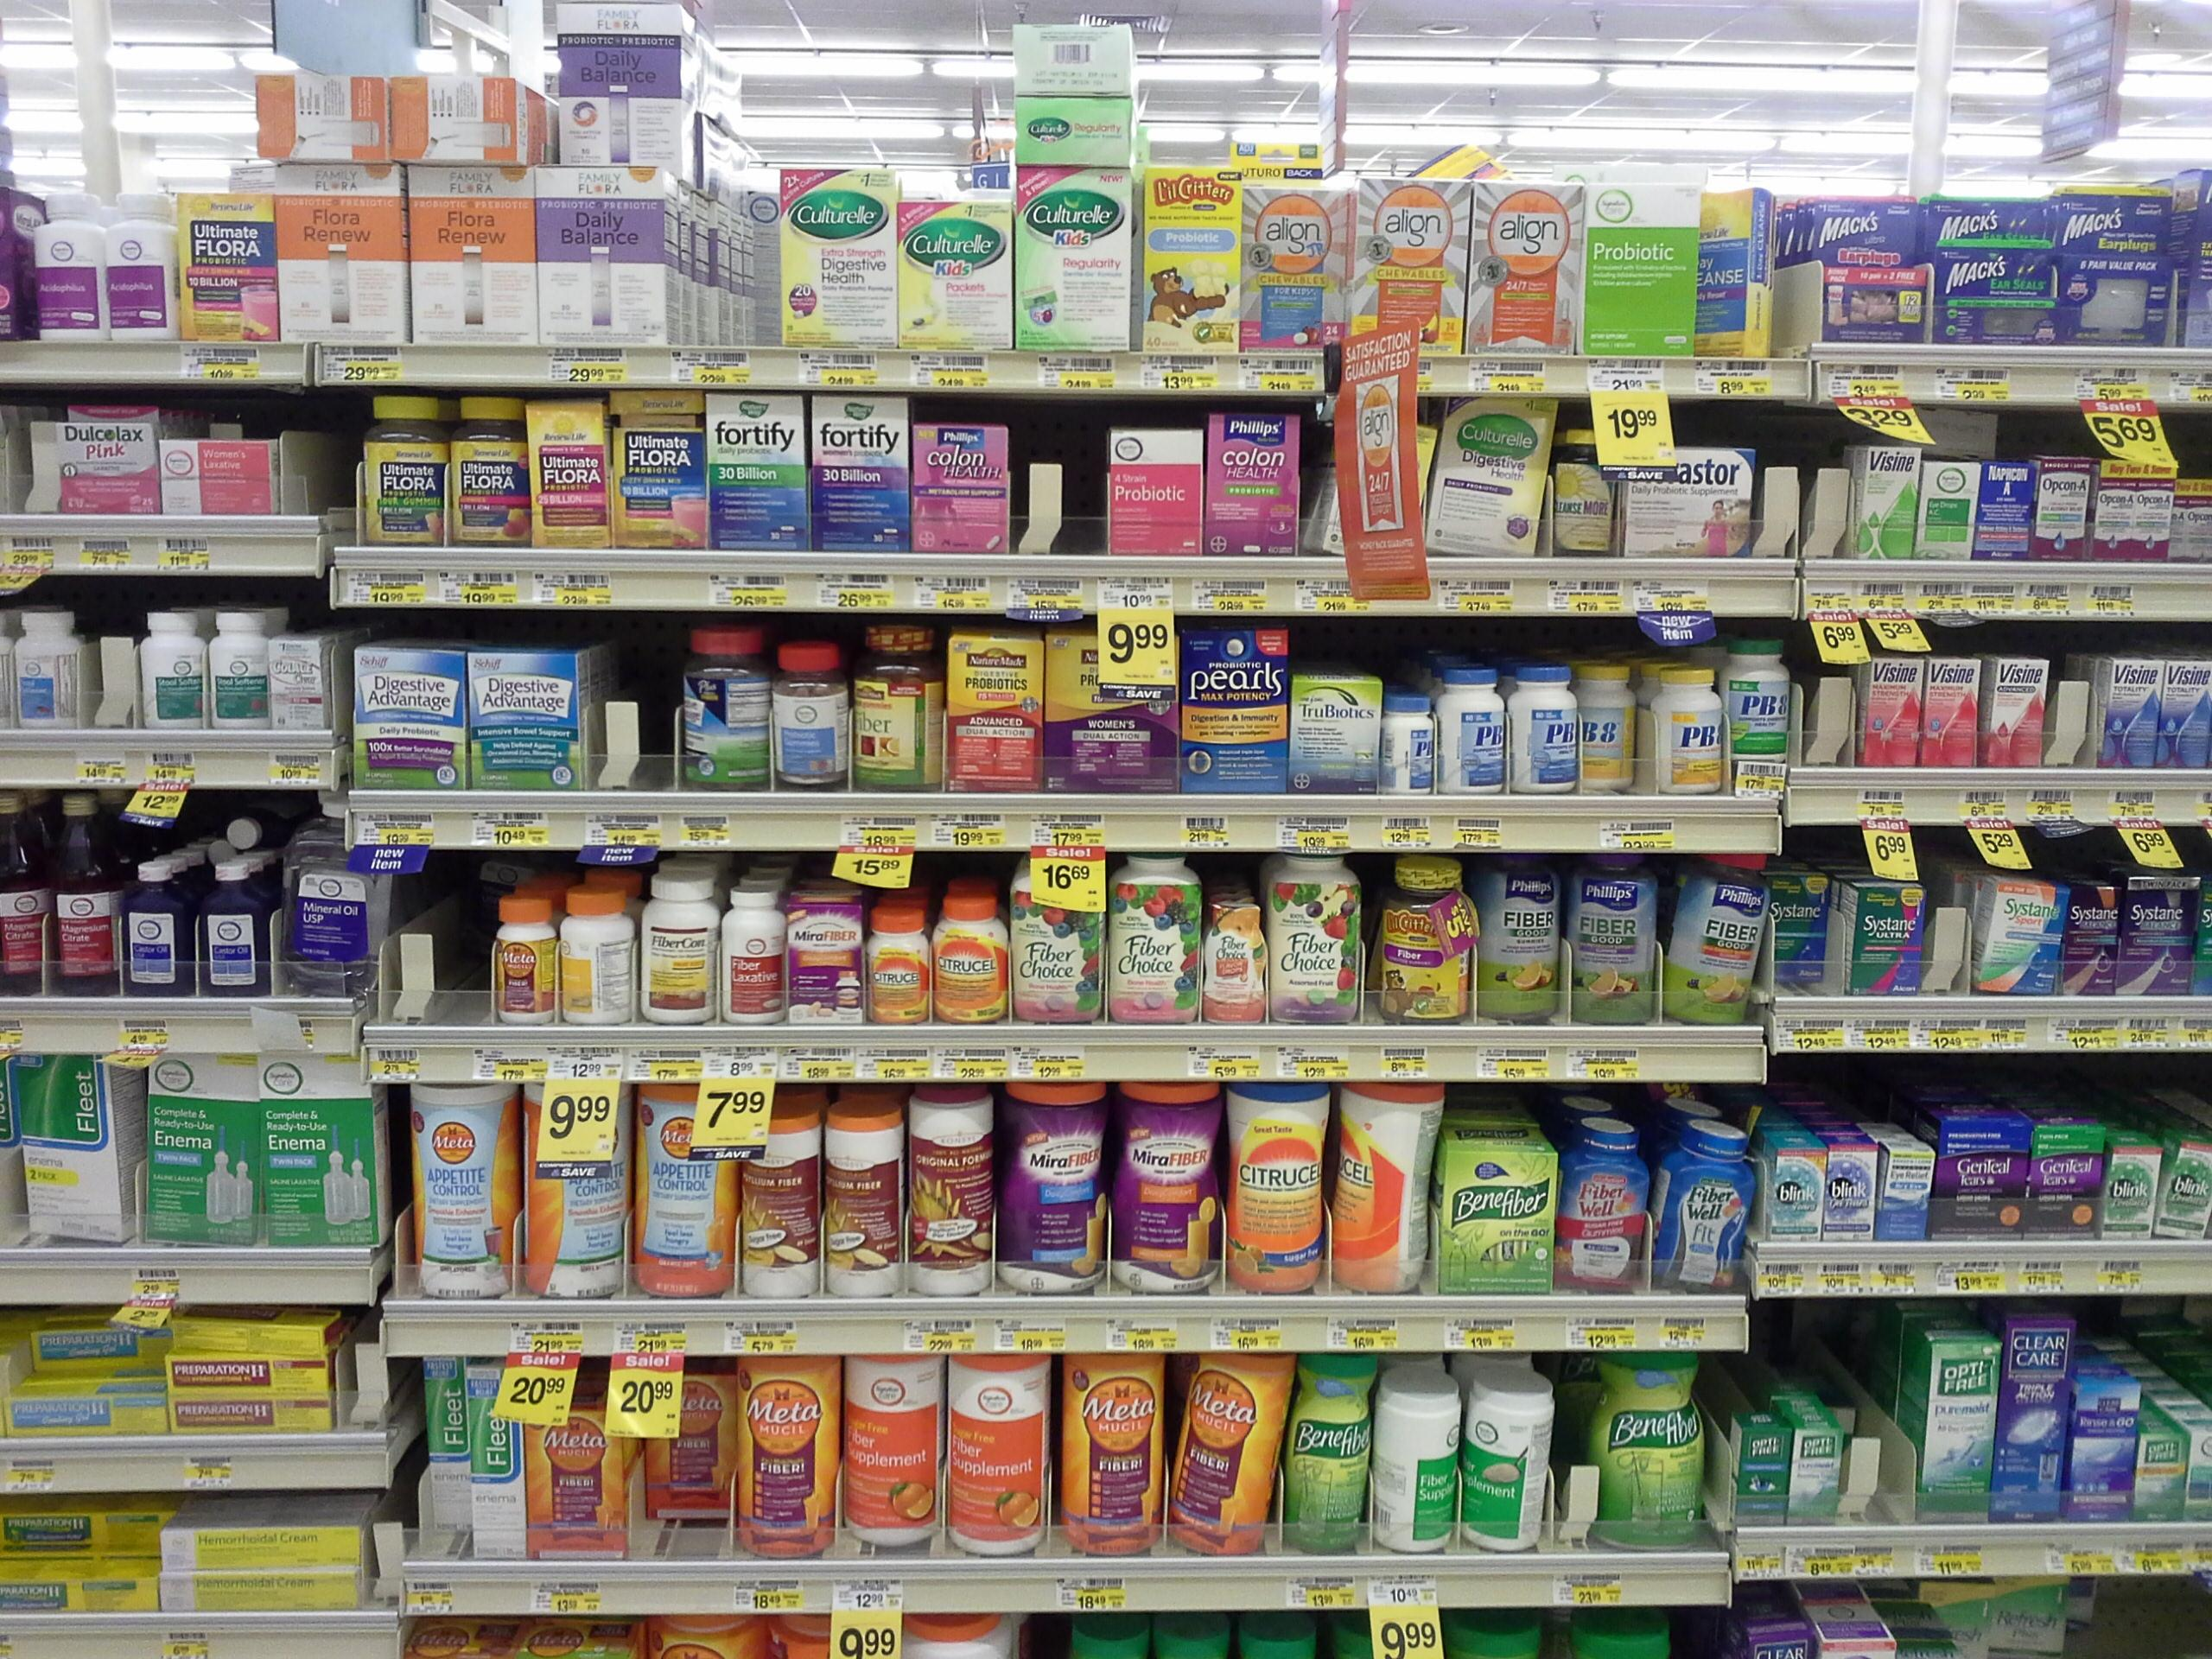empty: (404, 873, 493, 1014), (1017, 416, 1096, 552), (601, 638, 662, 788)
misalignment: (1169, 1352, 1292, 1560), (1660, 863, 1764, 1033)
